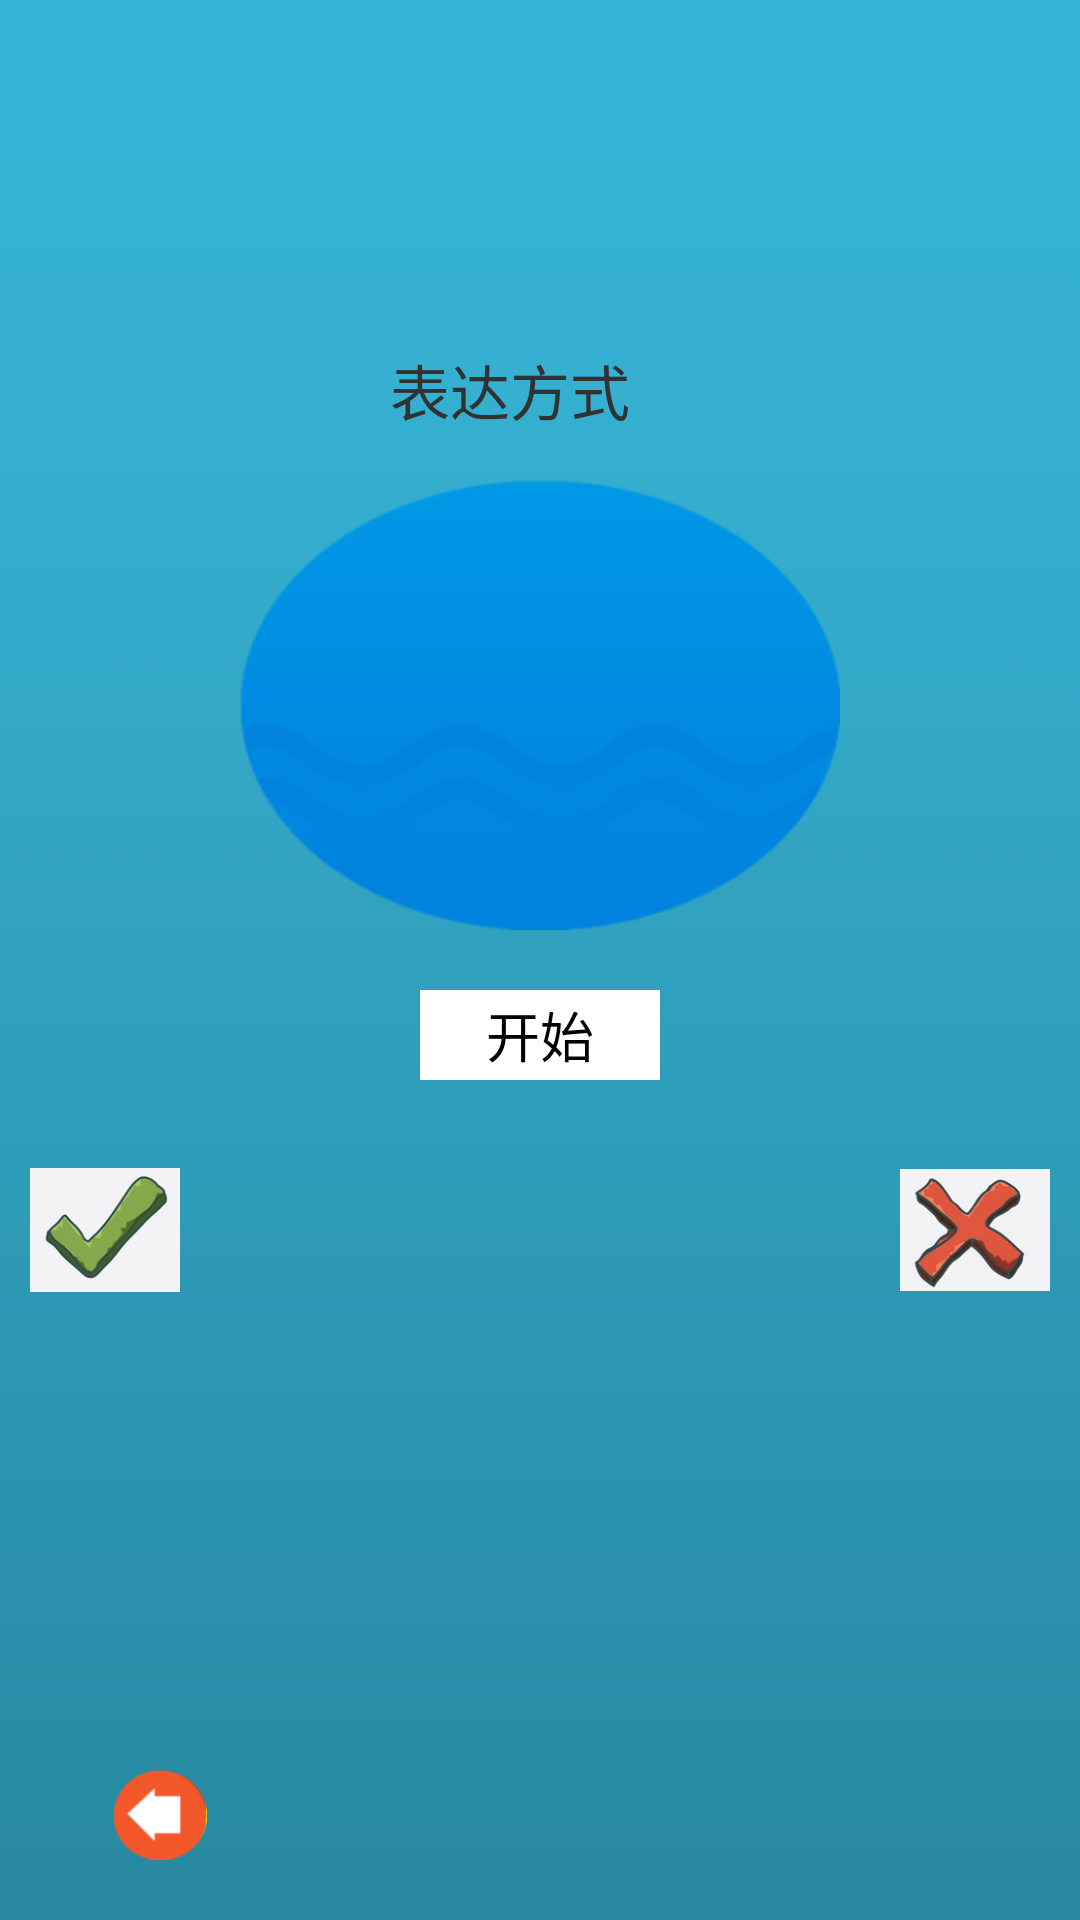

Screen size 1080x1920. Icon name, then its center in pixels as [x,y]:
anser right: [105,1230]
answer wrong: [975,1230]
goback: [160,1815]
